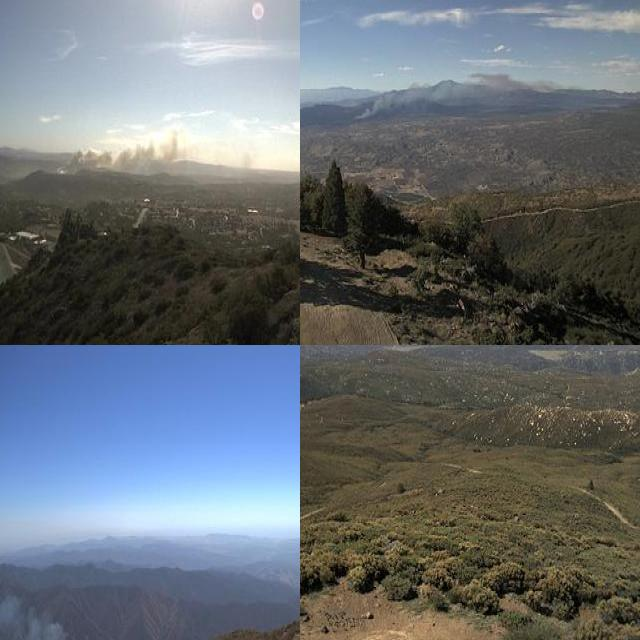smoke: (347, 60, 539, 126), (55, 120, 197, 184), (0, 588, 115, 640)
